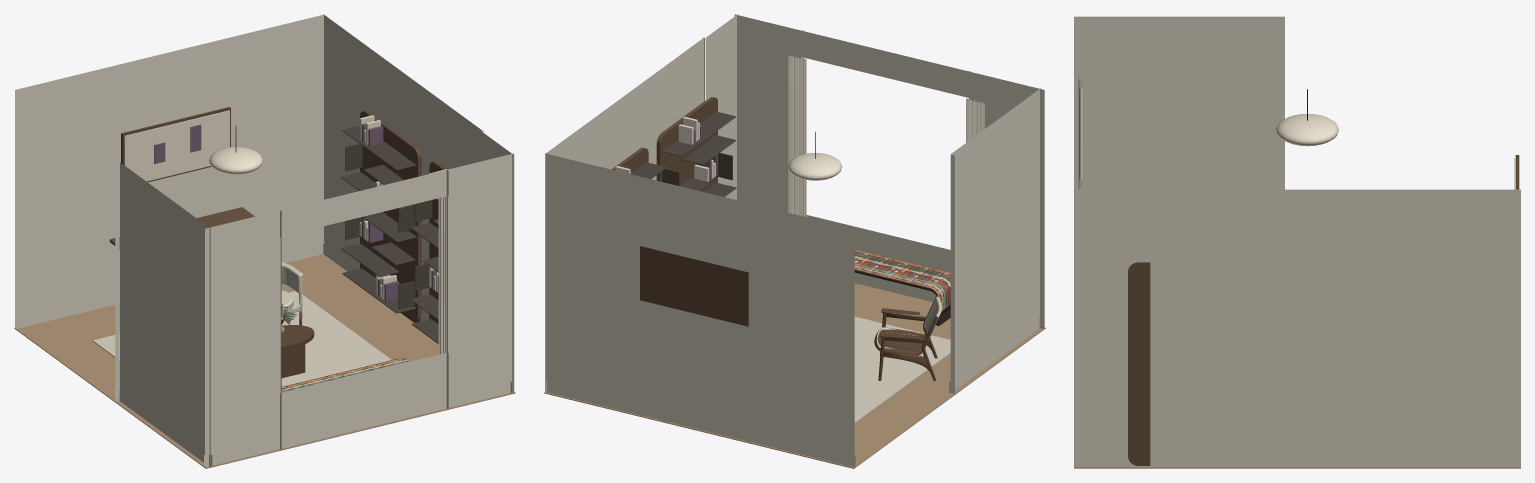
File: formal-2.glb
3 views of the same model, side by side, from view 1: azimuth 30°, elevation 25°; view 2: azimuth 150°, elevation 25°; view 3: azimuth 270°, elevation 25° (orthographic). The views are drawn at different scales.
Parts seen in each view (by area): view 1: DESIGN | formal removable wall finish, DESIGN | formal floor finish, DESIGN | Required Blabla bookcase 2, DESIGN | Formal ground, DESIGN | Textile artwork, DESIGN | Required Blabla bookcase 1, DESIGN | Formal soft window edge.001, DESIGN | Library shaded light shade, DESIGN | Reading settee, DESIGN | Required Brera anniversary window bench, DESIGN | Library low table trestle, DESIGN | Quiet artwork frame (+2 smaller); view 2: DESIGN | formal removable wall finish, DESIGN | formal floor finish, DESIGN | Quiet artwork frame, DESIGN | Required Blabla bookcase 1, DESIGN | Formal ground, DESIGN | Guest reading chair, DESIGN | Formal soft window edge.001, DESIGN | Required Brera anniversary window bench, DESIGN | Library shaded light shade, DESIGN | Required Blabla bookcase 2, DESIGN | Formal soft window edge; view 3: DESIGN | formal removable wall finish, DESIGN | Required Blabla bookcase 1, DESIGN | Library shaded light shade, DESIGN | formal floor finish, DESIGN | Formal soft window edge.
Boxes of the visible parts, bbox=[...] form: DESIGN | formal removable wall finish: bbox=[15, 14, 514, 466]; DESIGN | formal floor finish: bbox=[14, 254, 515, 468]; DESIGN | Required Blabla bookcase 2: bbox=[341, 110, 421, 322]; DESIGN | Formal ground: bbox=[92, 291, 391, 386]; DESIGN | Textile artwork: bbox=[124, 110, 229, 181]; DESIGN | Required Blabla bookcase 1: bbox=[410, 161, 447, 343]; DESIGN | Formal soft window edge.001: bbox=[438, 196, 446, 354]; DESIGN | Library shaded light shade: bbox=[209, 146, 262, 174]; DESIGN | Reading settee: bbox=[281, 262, 303, 325]; DESIGN | Required Brera anniversary window bench: bbox=[281, 357, 409, 392]; DESIGN | Library low table trestle: bbox=[281, 344, 305, 378]; DESIGN | Quiet artwork frame: bbox=[121, 107, 230, 182]; DESIGN | formal removable wall finish: bbox=[545, 14, 1044, 467]; DESIGN | formal floor finish: bbox=[544, 283, 1045, 468]; DESIGN | Quiet artwork frame: bbox=[640, 246, 748, 326]; DESIGN | Required Blabla bookcase 1: bbox=[656, 97, 736, 196]; DESIGN | Formal ground: bbox=[854, 316, 950, 423]; DESIGN | Guest reading chair: bbox=[874, 294, 941, 380]; DESIGN | Formal soft window edge.001: bbox=[788, 55, 806, 216]; DESIGN | Required Brera anniversary window bench: bbox=[854, 249, 950, 325]; DESIGN | Library shaded light shade: bbox=[788, 153, 842, 180]; DESIGN | Required Blabla bookcase 2: bbox=[611, 147, 666, 178]; DESIGN | Formal soft window edge: bbox=[966, 98, 984, 142]; DESIGN | formal removable wall finish: bbox=[1074, 16, 1520, 467]; DESIGN | Required Blabla bookcase 1: bbox=[1128, 262, 1150, 465]; DESIGN | Library shaded light shade: bbox=[1276, 114, 1338, 146]; DESIGN | formal floor finish: bbox=[1074, 466, 1520, 468]; DESIGN | Formal soft window edge: bbox=[1078, 78, 1083, 181].
Size of the model in its own units: 3.71 by 2.74 by 3.98.
